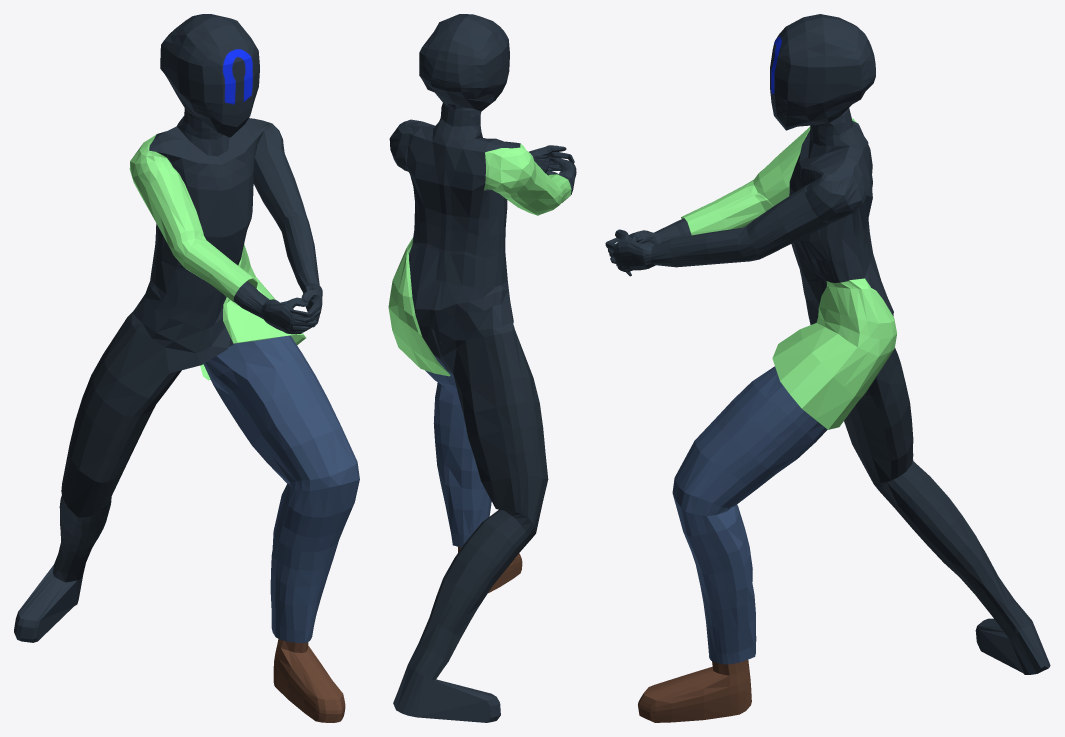
Rendered from Mar_Attack_000032.obj.
3 views of the same model, side by side, from view 1: azimuth 30°, elevation 25°; view 2: azimuth 150°, elevation 25°; view 3: azimuth 270°, elevation 25° (orthographic). The views are drawn at different scales.
Parts seen in each view (by area): view 1: Cube.000_Cube.001; view 2: Cube.000_Cube.001; view 3: Cube.000_Cube.001.
Boxes of the visible parts, <box> form: Cube.000_Cube.001: <box>14,14,359,722</box>; Cube.000_Cube.001: <box>388,14,576,722</box>; Cube.000_Cube.001: <box>605,14,1050,722</box>.
Size of the model in its own units: 1.16 by 3.61 by 2.13.
